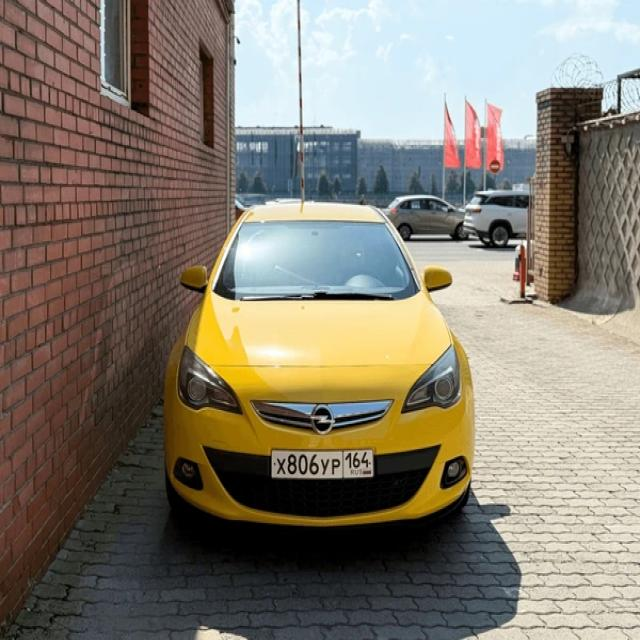opel: (308, 404, 338, 435)
